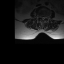CCS_normal: (42, 15, 43, 22)
LFS_normal: (45, 15, 47, 20)
LLS_stenosis: (43, 15, 45, 20)
RFS_normal: (39, 13, 40, 19)
RLS_normal: (40, 14, 42, 20)
